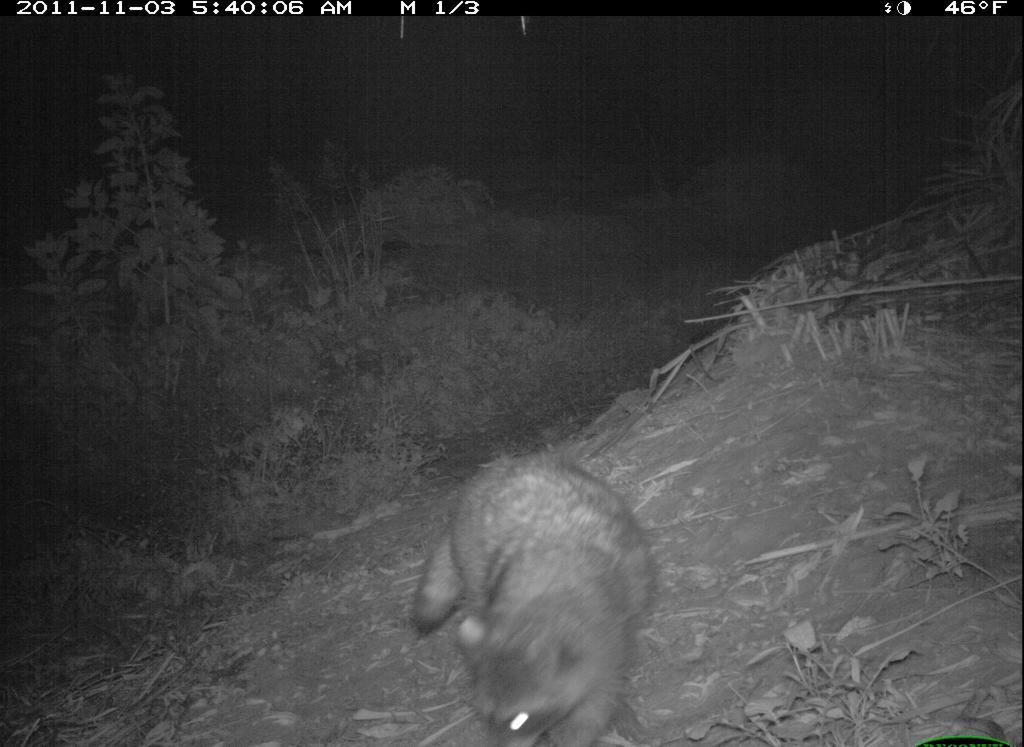raccoon: (397, 445, 662, 747)
